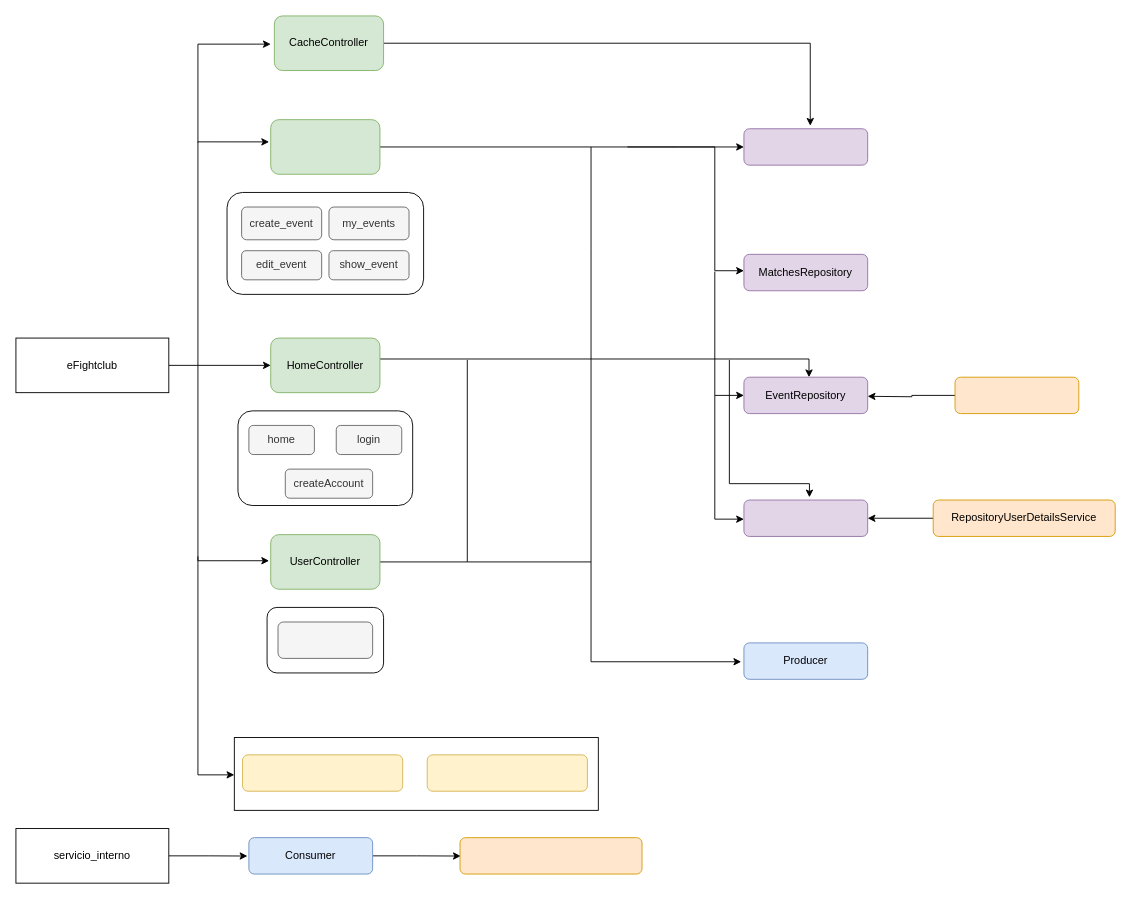
Some shapes in this 1131 by 899 pixel diagram are drawn without their labels. Here are the shapes that lost their labels. From the top down, the centre of each, then its label:
(x=325, y=146): EventController
(x=805, y=146): NotificationRepository
(x=1016, y=395): EventService
(x=805, y=517): UsersRepository
(x=325, y=639): my_account
(x=322, y=772): CSRFHandlerConfiguration
(x=506, y=772): SecurityConfiguration
(x=550, y=855): EmailSenderServiceService
